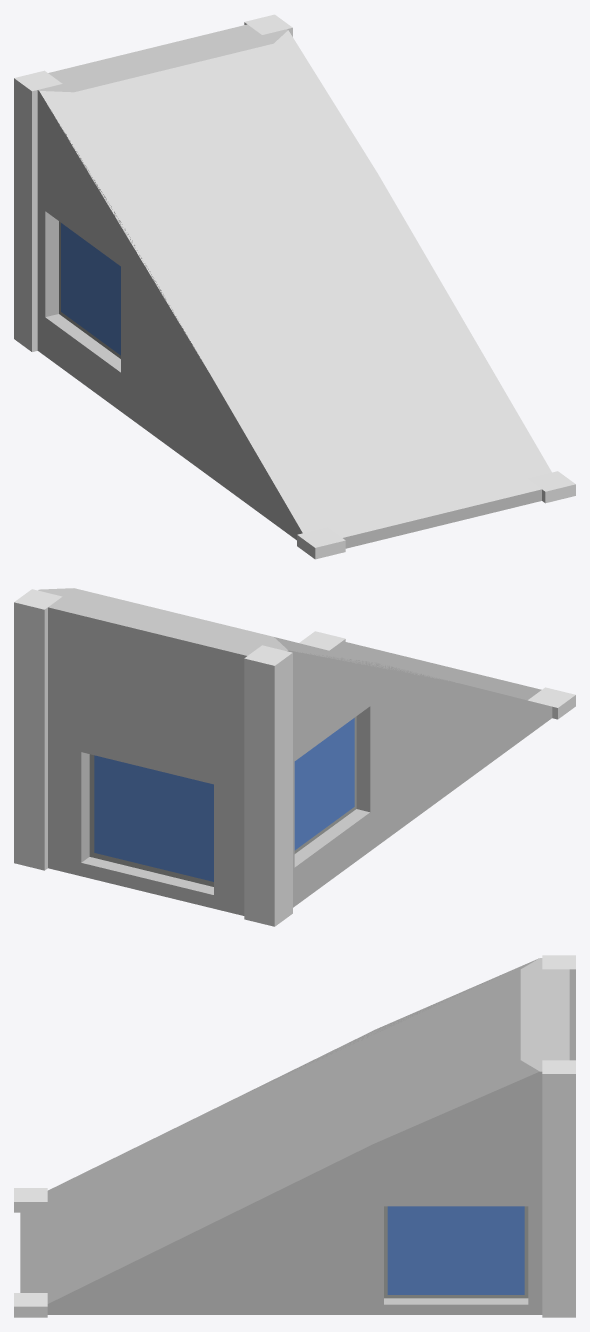
The model's file is building_1x2_7_r.glb.
3 views of the same model, one above another, from view 1: azimuth 30°, elevation 25°; view 2: azimuth 150°, elevation 25°; view 3: azimuth 270°, elevation 25° (orthographic). The views are drawn at different scales.
Visible parts, largest first — view 1: ThirdFloor; view 2: ThirdFloor; view 3: ThirdFloor.
Boxes of the visible parts, x1,y1,x2,y2 form: ThirdFloor: (14,14,575,559); ThirdFloor: (14,588,575,926); ThirdFloor: (14,955,575,1317).
Size of the model in its own units: 1.67 by 1.6 by 3.35.
